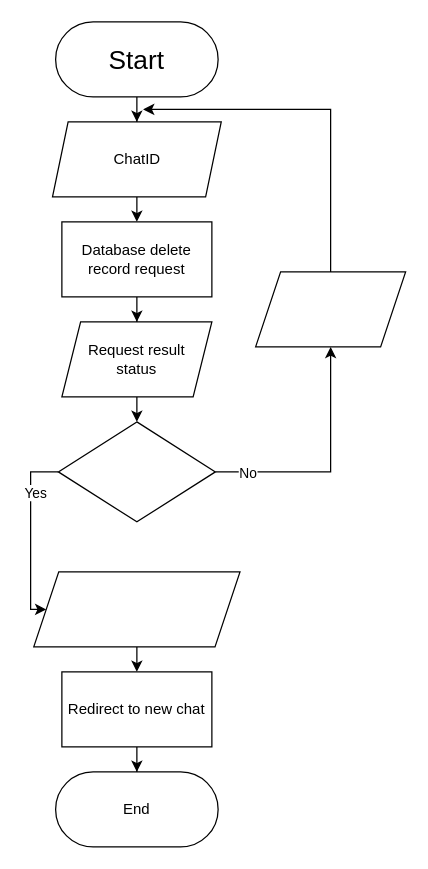
This 428x869 diagram has some shape labels left out. Here are the shapes that lost their labels. From the top down, the centre of each, then its label:
point (330, 309): Warning ("The error occurred, please try again")
point (136, 471): result status is true?
point (136, 609): Alarm("You just have deleted {ChatName} chat")
